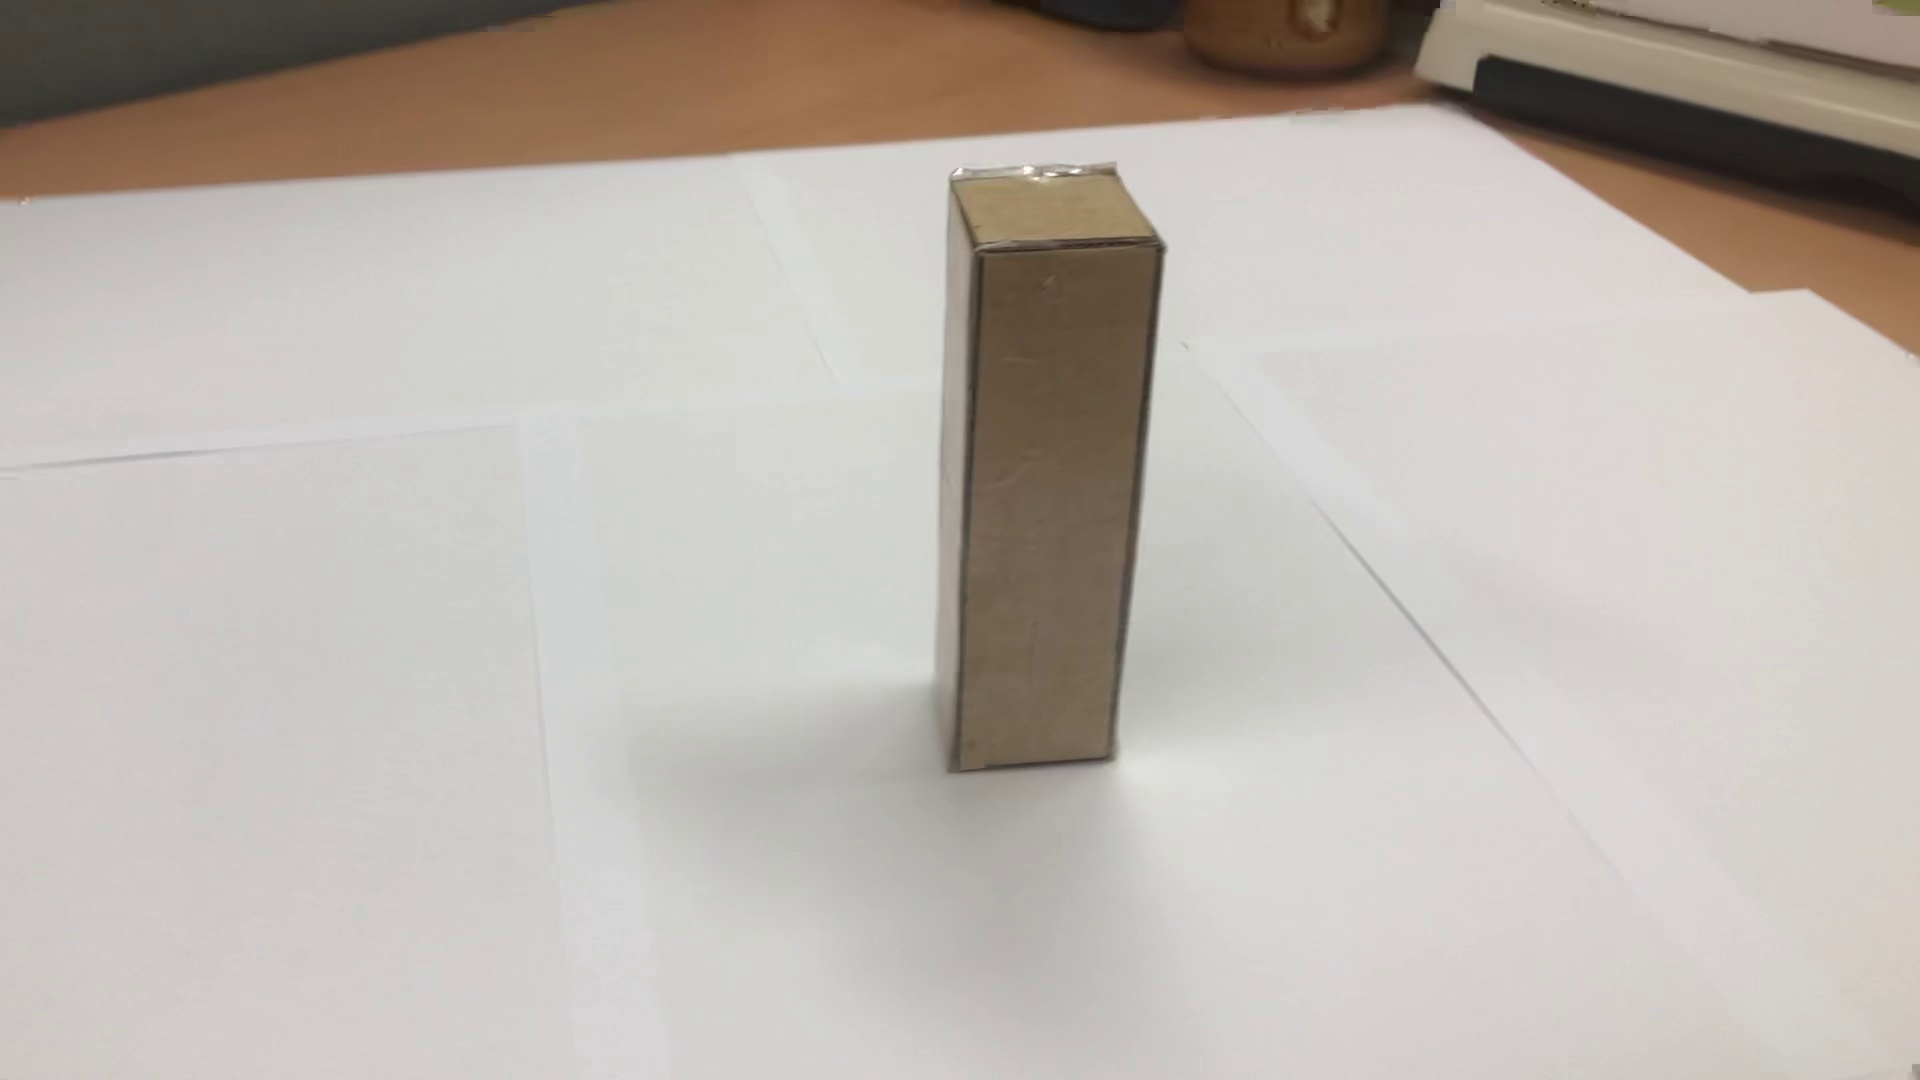box: (913, 156, 1184, 814)
